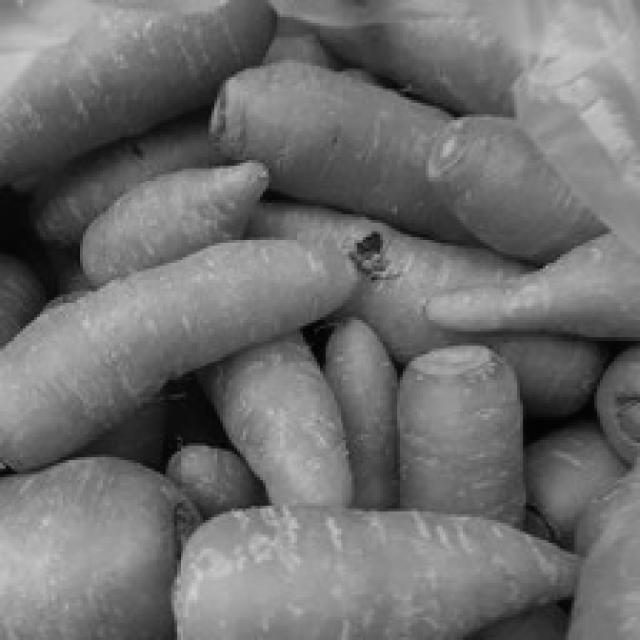Fresh_Carrot: (5, 252, 341, 450), (163, 501, 619, 640), (241, 65, 434, 205)
